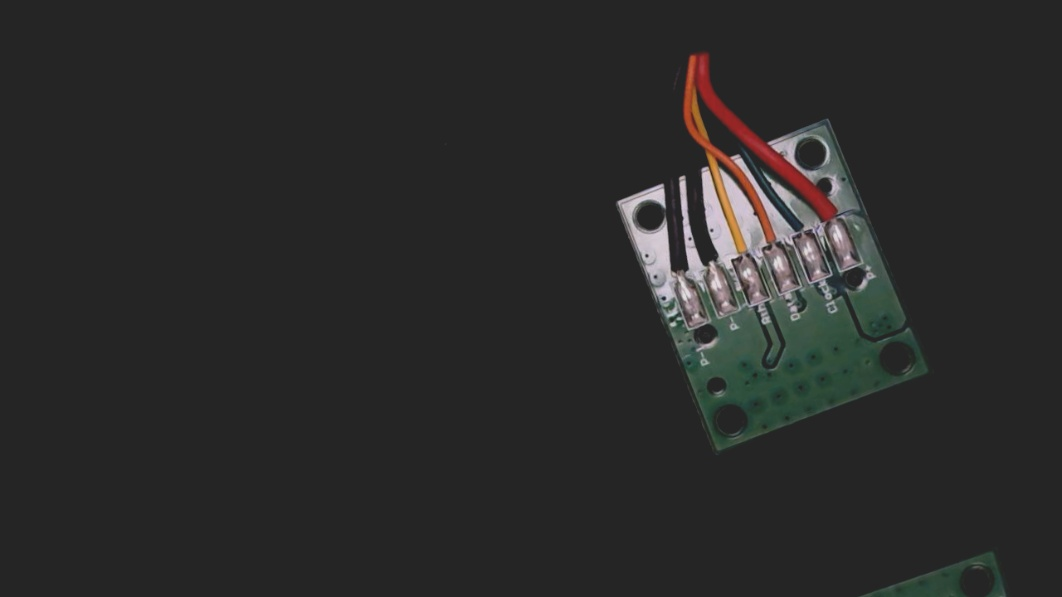Black: (686, 224, 729, 286)
Black1: (656, 236, 700, 298)
Green: (776, 194, 820, 252)
Orange: (745, 202, 790, 267)
Red: (806, 176, 852, 240)
Yellow: (715, 209, 762, 277)
